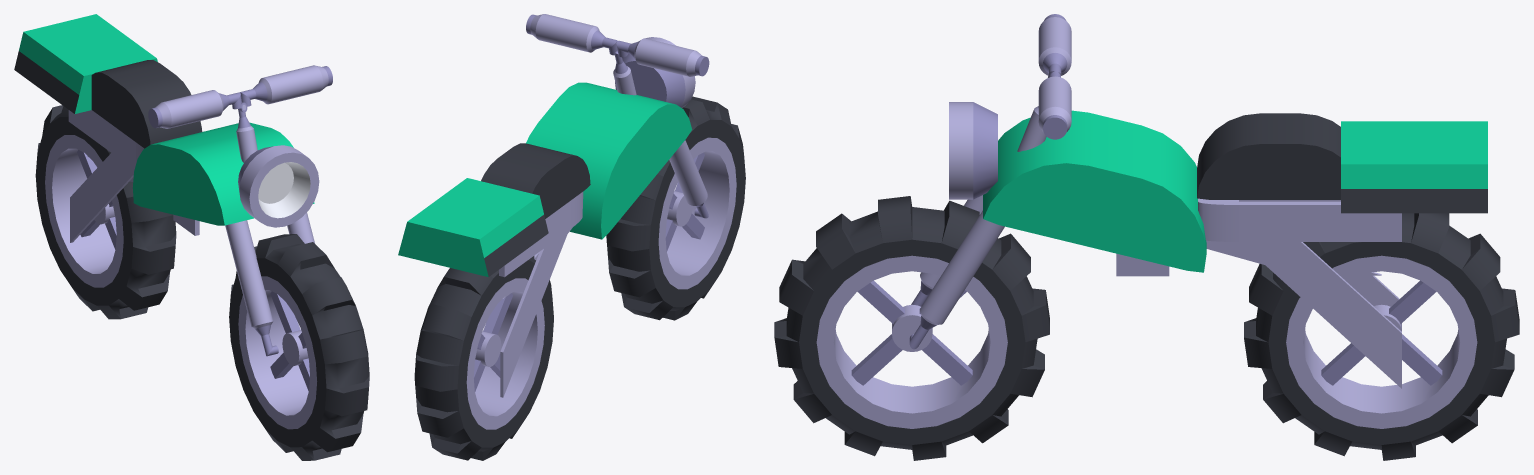
The model's file is motorcycle_Toon.fbx.
The picture shows the model from 3 angles, left to right: view 1: azimuth 30°, elevation 25°; view 2: azimuth 150°, elevation 25°; view 3: azimuth 270°, elevation 25°; orthographic projection. The views are drawn at different scales.
Parts seen in each view (by area): view 1: mergedBlocks; view 2: mergedBlocks; view 3: mergedBlocks.
Boxes of the visible parts, x1=… form: mergedBlocks: x1=14, y1=14, x2=369, y2=460; mergedBlocks: x1=398, y1=14, x2=745, y2=460; mergedBlocks: x1=774, y1=14, x2=1519, y2=460.
Size of the model in its own units: 6 by 10.58 by 18.26.
